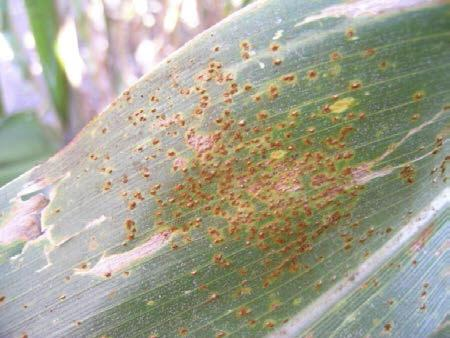Corn rust leaf: (1, 1, 448, 337)
